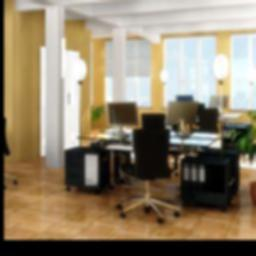Puerta: (41, 48, 80, 144)
